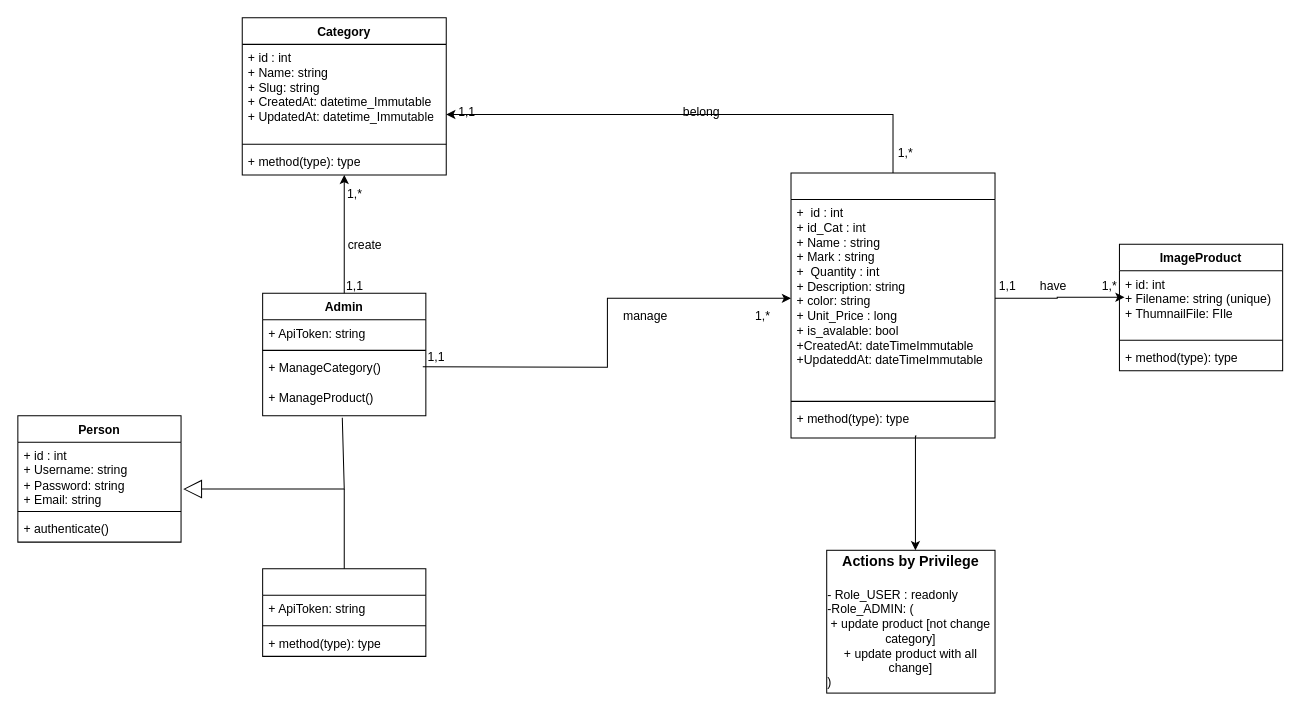
This 1301x711 diagram has some shape labels left out. The box of each missing label's shape, as (x1, y1, x2, y2) in pixels:
Product: (790, 172, 995, 438)
User: (262, 568, 426, 656)
